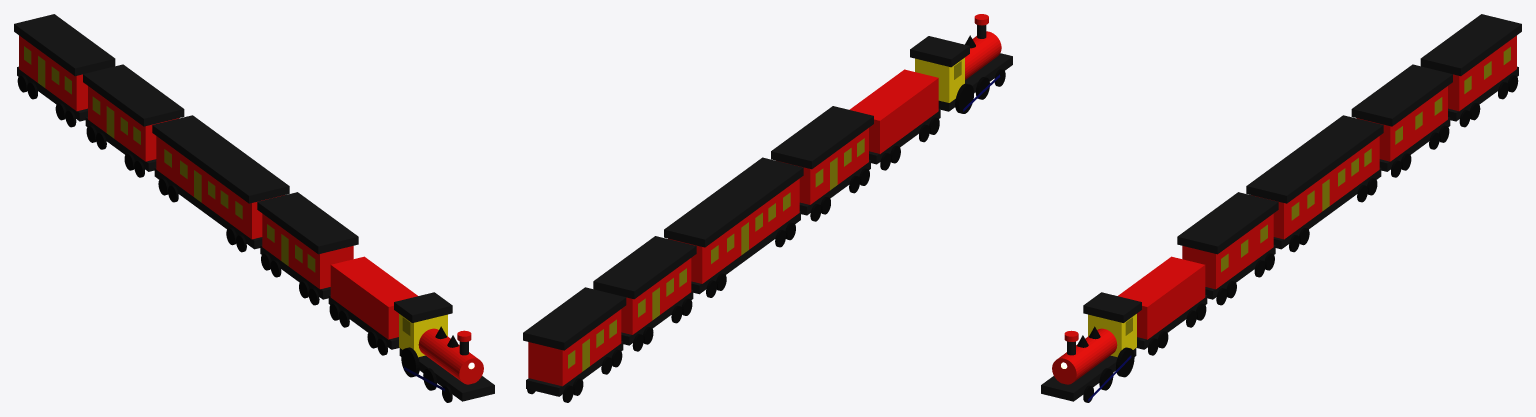
Rendered from train 1.fbx.
3 renders of one model, left to right at view 1: azimuth 30°, elevation 25°; view 2: azimuth 150°, elevation 25°; view 3: azimuth 330°, elevation 25°, orthographic.
Parts seen in each view (by area): view 1: Cube.043, Cube.051, Cube.049, Cube.054, Cube.057, Cube.042, Cube.048, Cube.053, Cube.056, Cylinder.002, Cube.044, Cube.046 (+7 smaller); view 2: Cube.043, Cube.051, Cube.057, Cube.054, Cube.049, Cube.042, Cube.056, Cube.053, Cube.048, Cube.046, Cube.045, Cylinder.002 (+7 smaller); view 3: Cube.043, Cube.051, Cube.049, Cube.054, Cube.057, Cube.042, Cube.048, Cube.053, Cube.056, Cylinder.002, Cube.044, Cube.046 (+6 smaller).
Boxes of the visible parts, <box> form: Cube.043: <box>152,115,289,203</box>; Cube.051: <box>330,256,417,339</box>; Cube.049: <box>257,192,358,254</box>; Cube.054: <box>83,64,184,126</box>; Cube.057: <box>14,14,115,76</box>; Cube.042: <box>156,136,284,239</box>; Cube.048: <box>262,213,353,289</box>; Cube.053: <box>88,86,179,161</box>; Cube.056: <box>19,35,87,111</box>; Cylinder.002: <box>418,328,483,384</box>; Cube.044: <box>399,348,494,401</box>; Cube.046: <box>394,292,452,322</box>; Cube.043: <box>664,157,803,247</box>; Cube.051: <box>849,69,938,153</box>; Cube.057: <box>523,287,626,350</box>; Cube.054: <box>593,236,696,299</box>; Cube.049: <box>771,106,873,169</box>; Cube.042: <box>668,178,799,283</box>; Cube.056: <box>528,309,621,386</box>; Cube.053: <box>621,258,691,334</box>; Cube.048: <box>776,128,868,204</box>; Cube.046: <box>910,36,969,67</box>; Cube.045: <box>915,57,964,102</box>; Cylinder.002: <box>965,31,1001,79</box>; Cube.043: <box>1246,115,1383,203</box>; Cube.051: <box>1118,256,1205,339</box>; Cube.049: <box>1177,192,1278,254</box>; Cube.054: <box>1351,64,1452,126</box>; Cube.057: <box>1420,14,1521,76</box>; Cube.042: <box>1251,136,1379,239</box>; Cube.048: <box>1182,213,1273,289</box>; Cube.053: <box>1356,86,1447,161</box>; Cube.056: <box>1448,35,1516,111</box>; Cylinder.002: <box>1052,328,1117,384</box>; Cube.044: <box>1041,348,1136,401</box>; Cube.046: <box>1083,292,1141,322</box>.
Bounding box in the file's own units: 300 × 434 × 5490.
